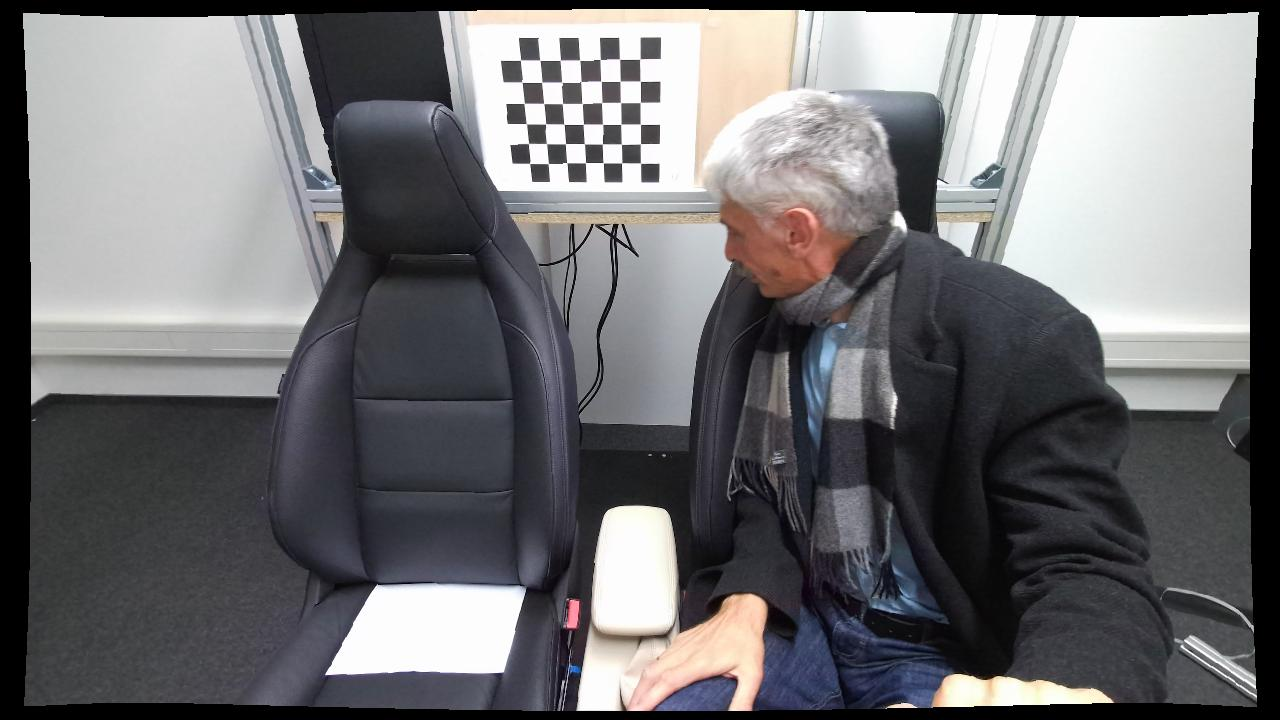Distracted: (643, 75, 1100, 710)
